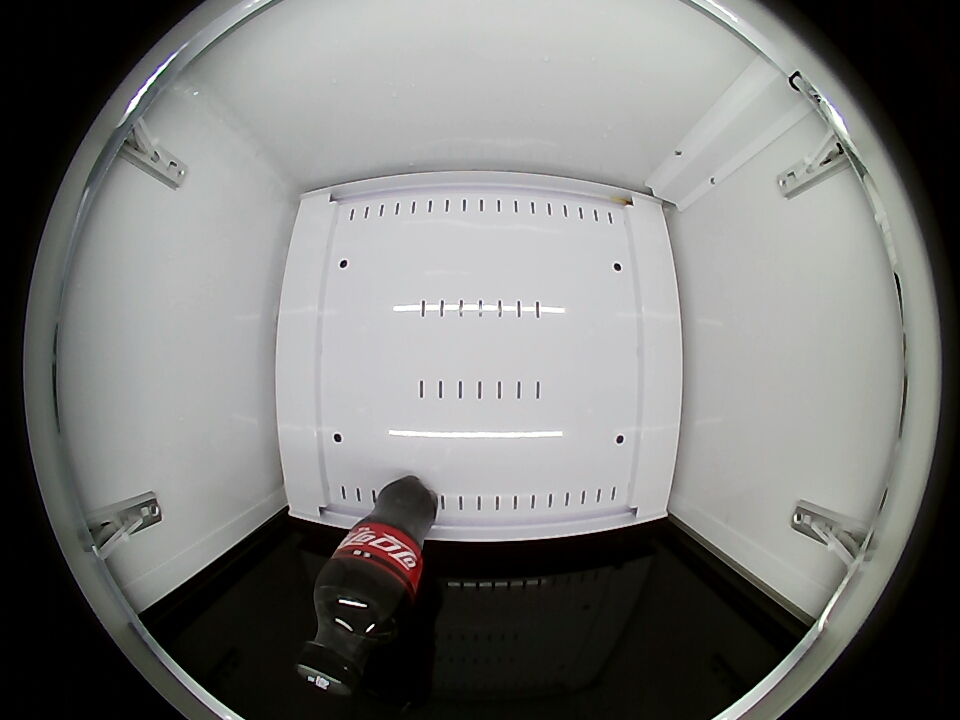lingdukele-b: (296, 582, 403, 693)
